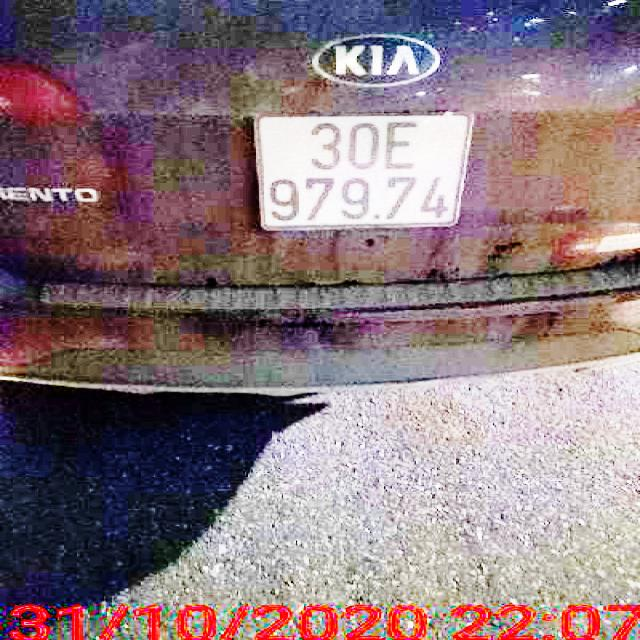license_plate: (254, 113, 480, 230)
